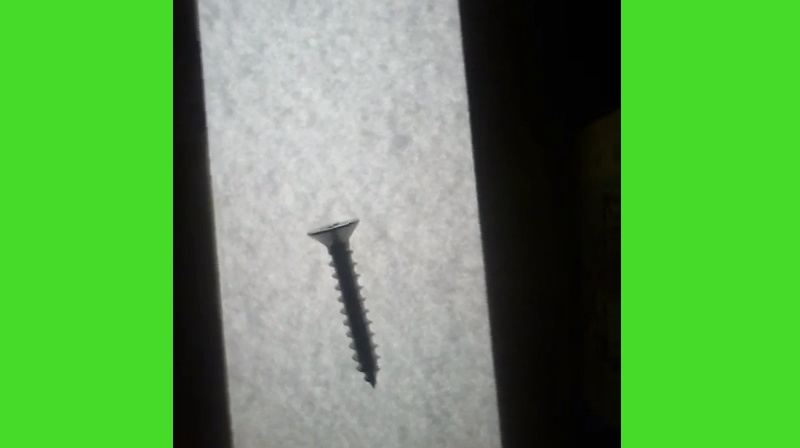S001: (304, 215, 388, 392)
